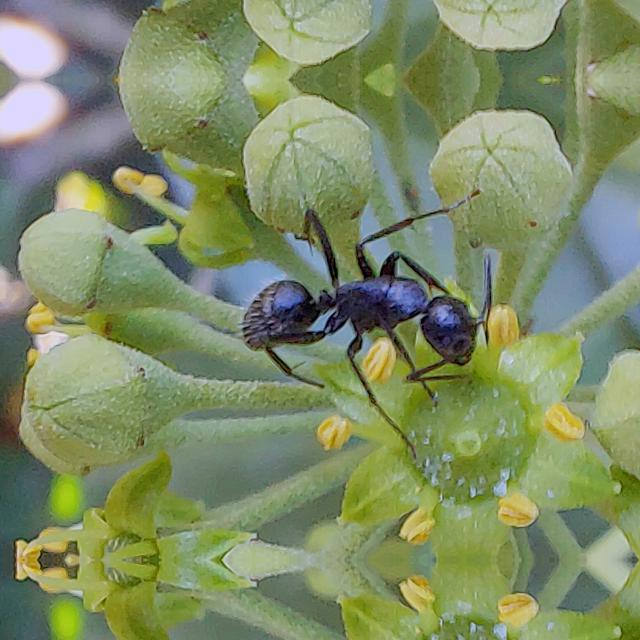Camponotus: (206, 199, 522, 403)
